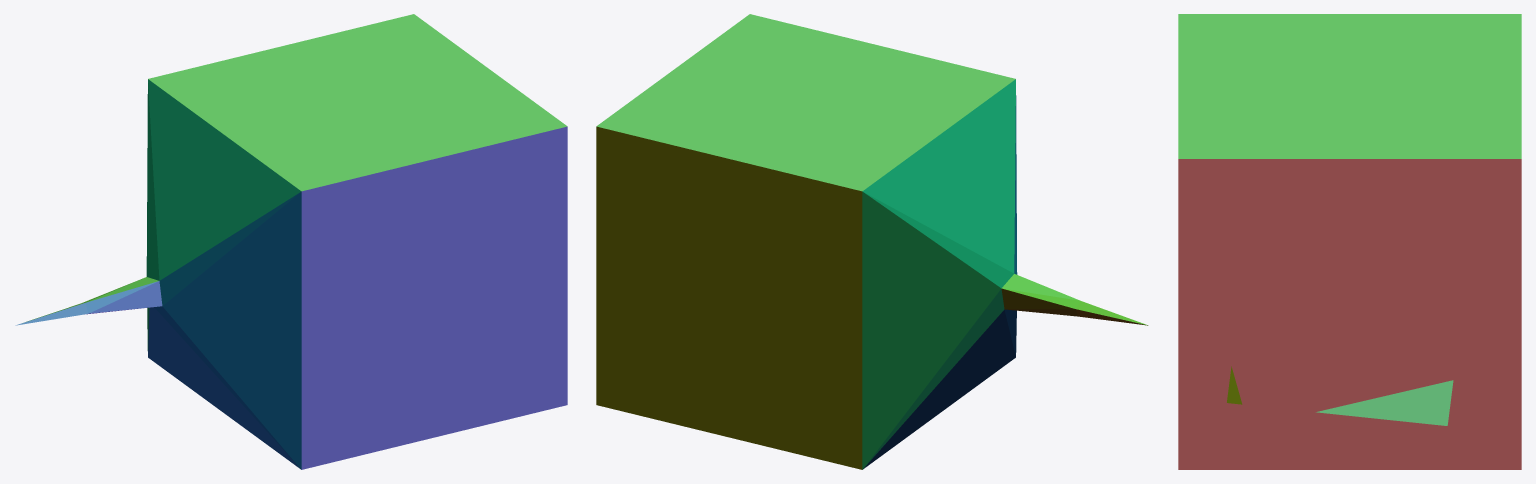
Rendered from Cube_Normal.fbx.
3 renders of one model, left to right at view 1: azimuth 30°, elevation 25°; view 2: azimuth 150°, elevation 25°; view 3: azimuth 270°, elevation 25°, orthographic. The views are drawn at different scales.
Visible parts, largest first — view 1: attribwrangle1; view 2: attribwrangle1; view 3: attribwrangle1.
Part boxes in pixels (left/top/right/bottom): attribwrangle1: left=15, top=14, right=567, bottom=469; attribwrangle1: left=596, top=14, right=1148, bottom=469; attribwrangle1: left=1178, top=14, right=1521, bottom=469.
Size of the model in its own units: 1.79 by 1 by 1.
